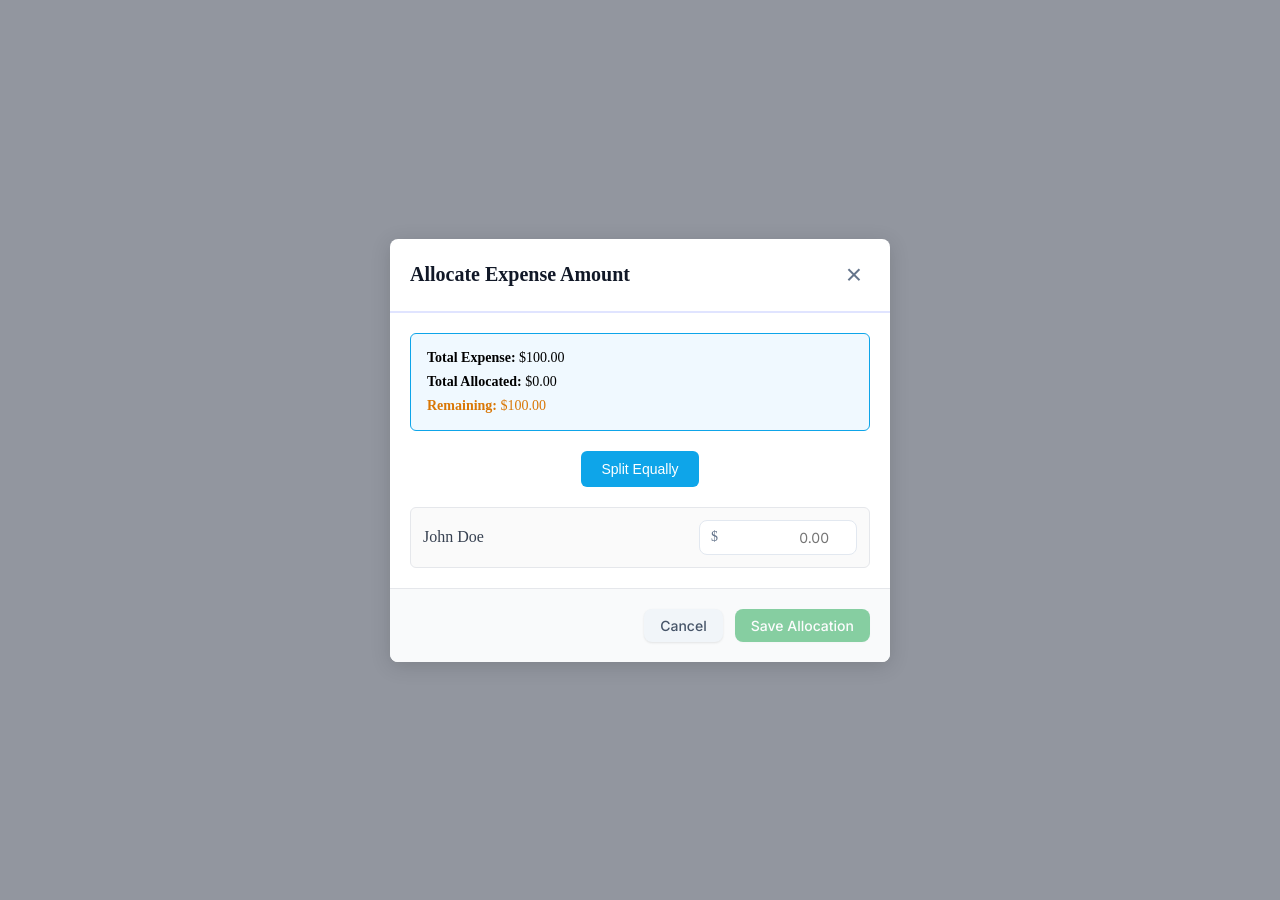
Test: PersonAllocationModal › Edge cases › handles single person allocation
The image size is (1280, 900).
What coordinates should you click on to do the following:
click the button "Split Equally"
I would click on:
 (640, 468)
Its box is [582,450,698,486].
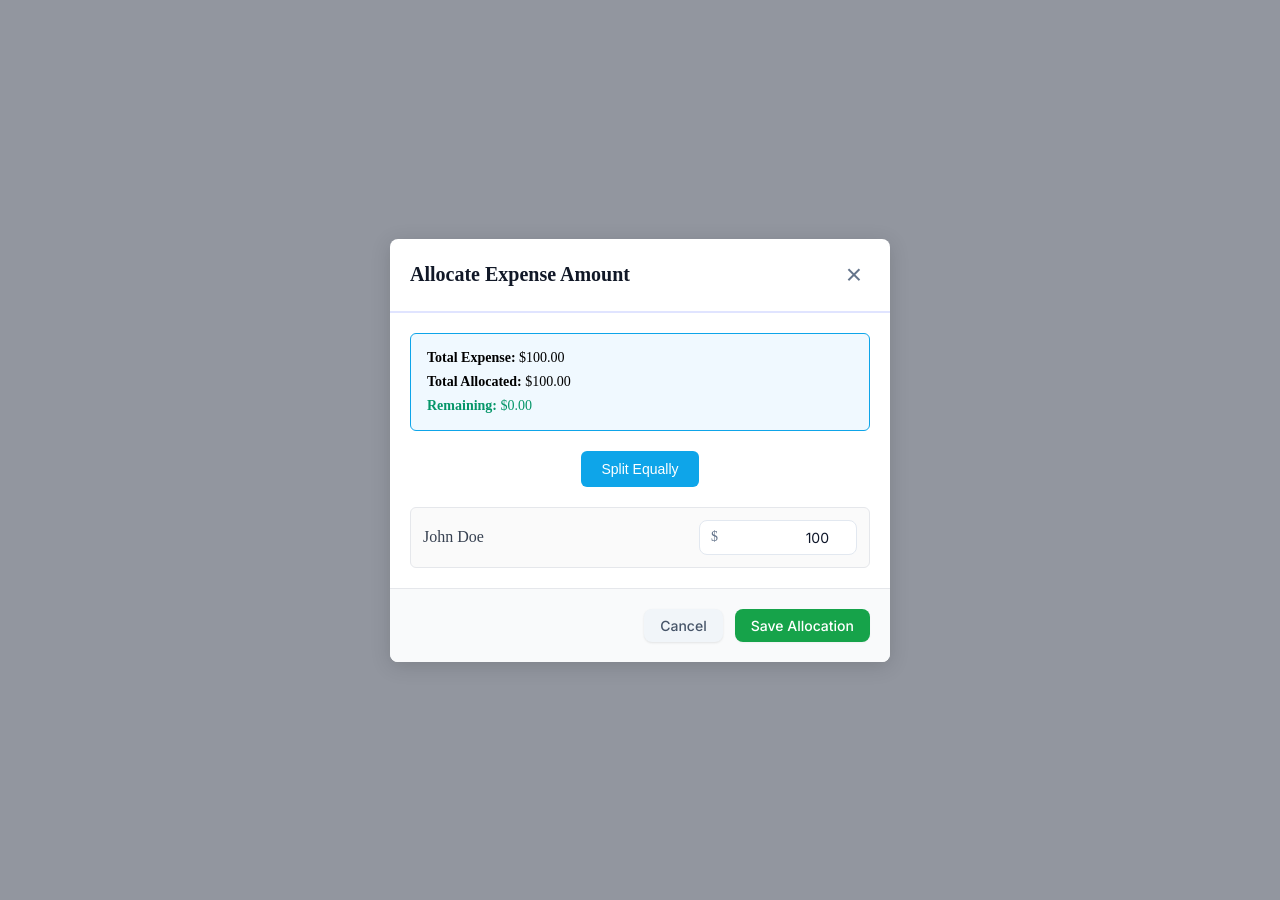
Result: the number field with placeholder "0.00" holds "100" at [699,520,857,554]
